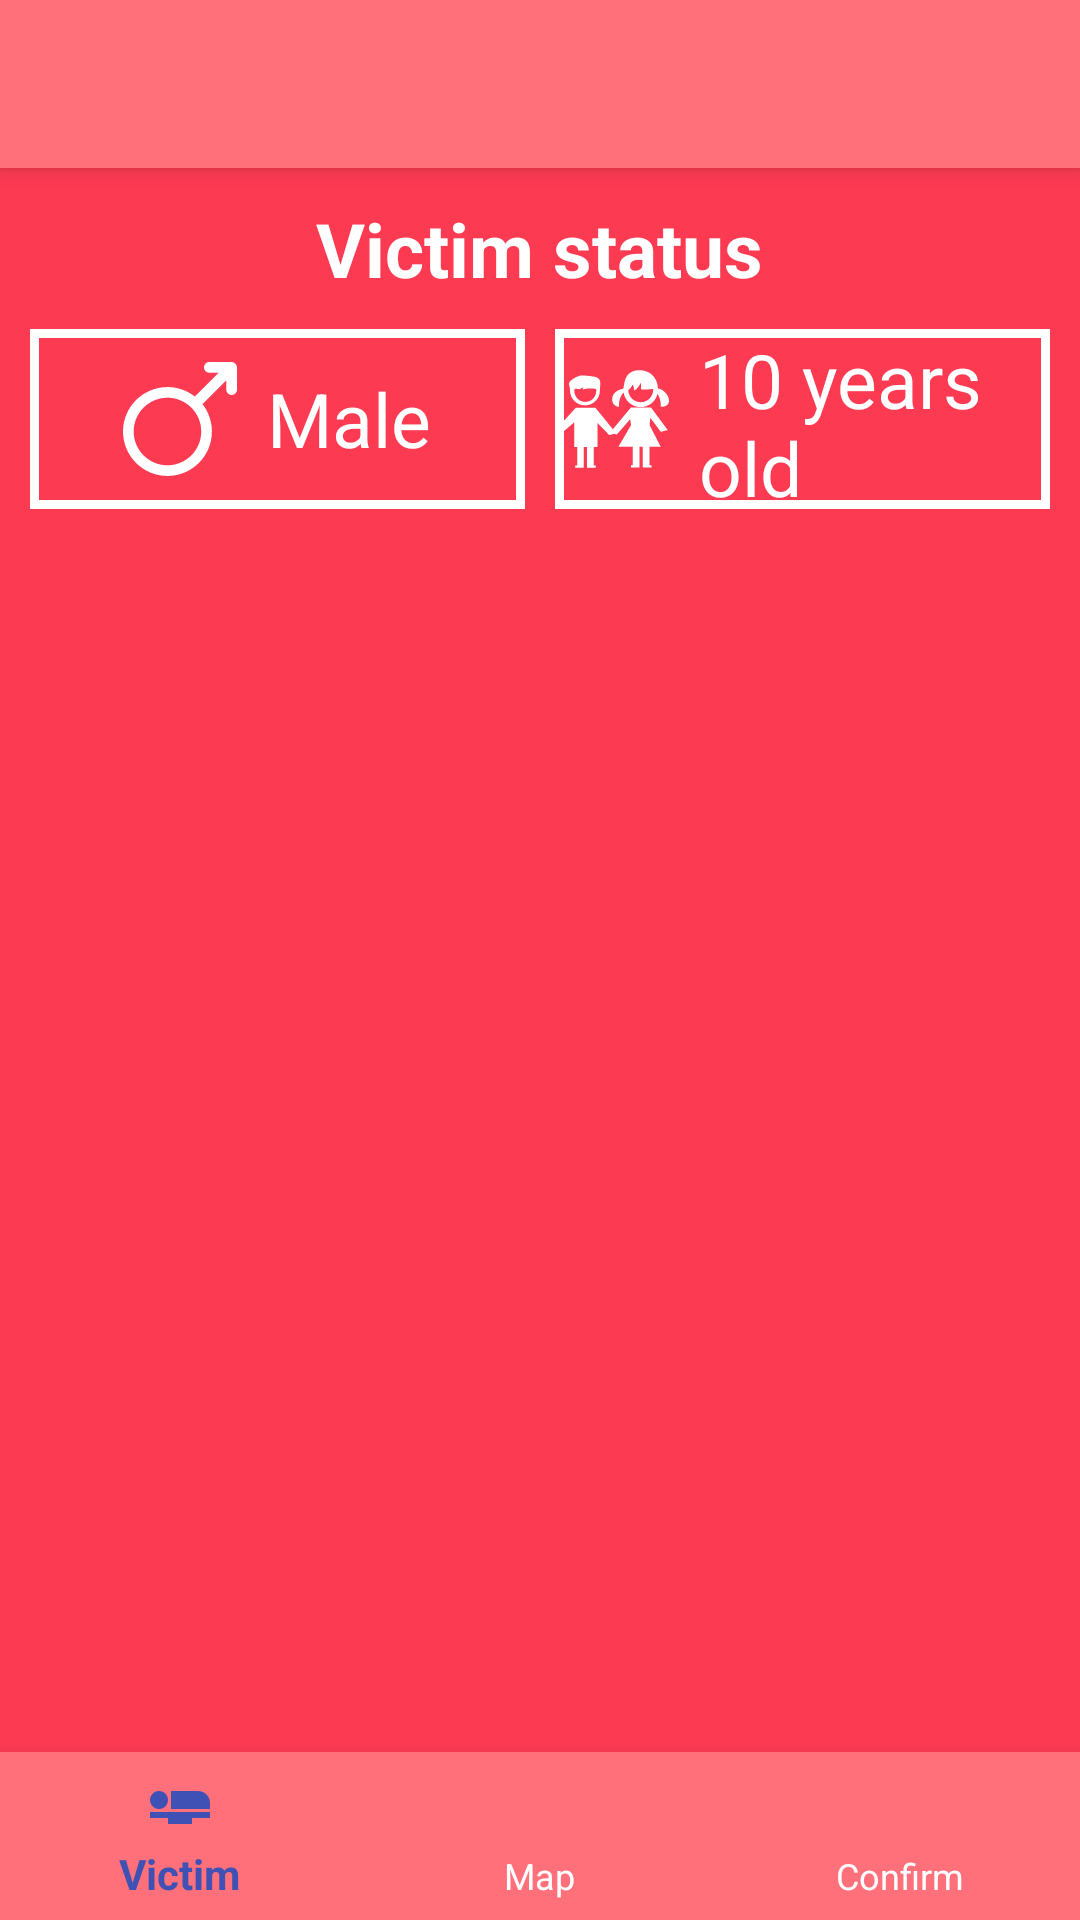

Point at icon controls on the screen. Image size 1080 x 1920, points as (x,y).
children: (612,419)
